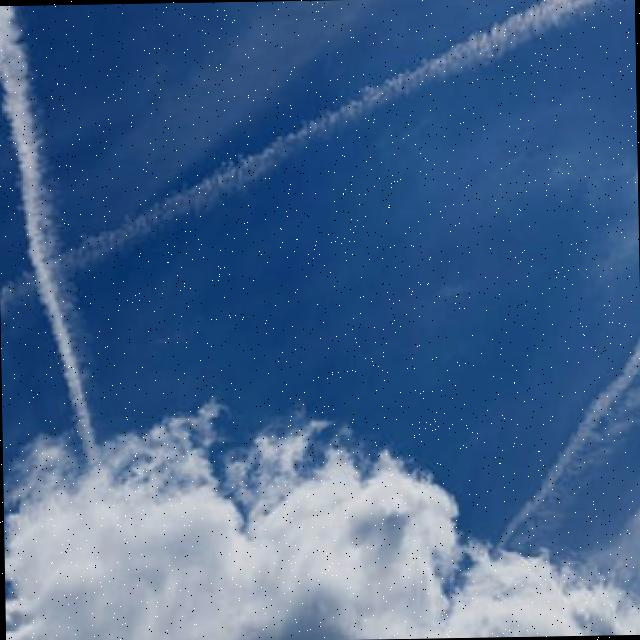Ct: (1, 1, 640, 584)
